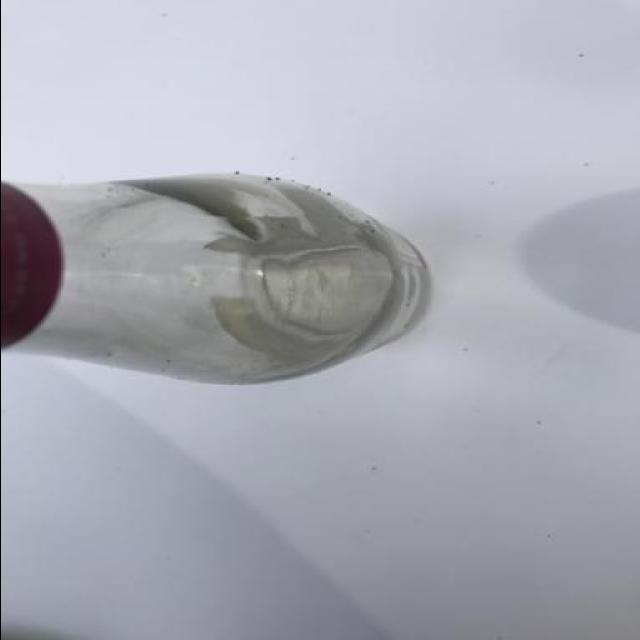glass: (1, 174, 434, 386)
